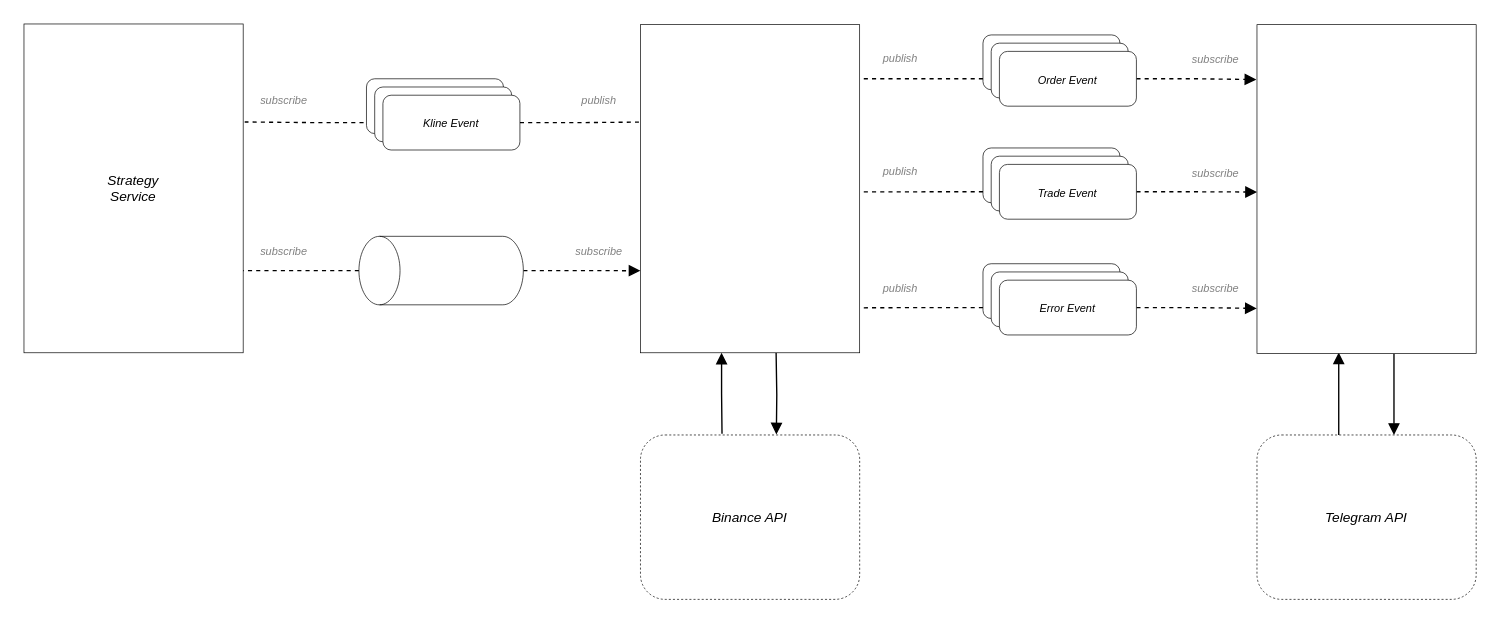
Image size: 1500x623. Some labels were removed from this diagram. Each missing label, with the centre of its shape:
"Dataframe Stream" belongs at (x=440, y=270).
"Exchange Service" belongs at (x=749, y=188).
"Notification Service" belongs at (x=1366, y=188).
